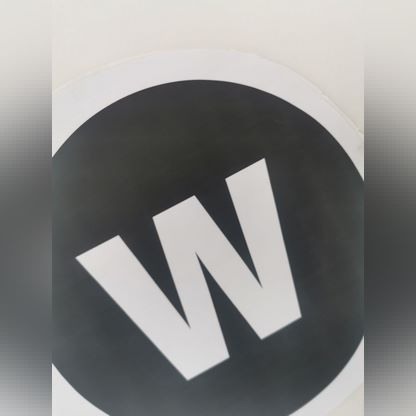W: (64, 111, 362, 396)
